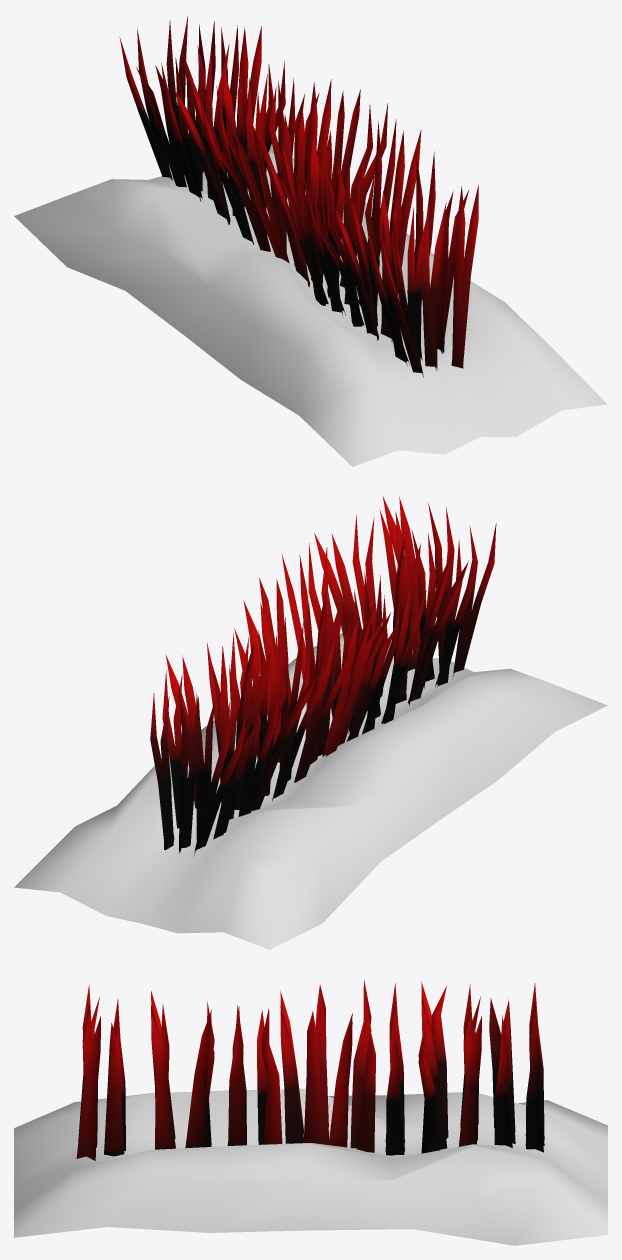
Rendered from SM_Crop.fbx.
3 views of the same model, one above another, from view 1: azimuth 30°, elevation 25°; view 2: azimuth 150°, elevation 25°; view 3: azimuth 270°, elevation 25° (orthographic). The views are drawn at different scales.
Visible parts, largest first — view 1: SM_CropField.001, SM_CropField; view 2: SM_CropField.001, SM_CropField; view 3: SM_CropField.001, SM_CropField.
Boxes of the visible parts, x1,y1,x2,y2 form: SM_CropField.001: (14, 144, 607, 466); SM_CropField: (119, 16, 478, 377); SM_CropField.001: (14, 633, 607, 949); SM_CropField: (150, 496, 496, 856); SM_CropField.001: (14, 1088, 607, 1245); SM_CropField: (76, 980, 544, 1160).
Bounding box in the file's own units: 110 × 93.75 × 251.
